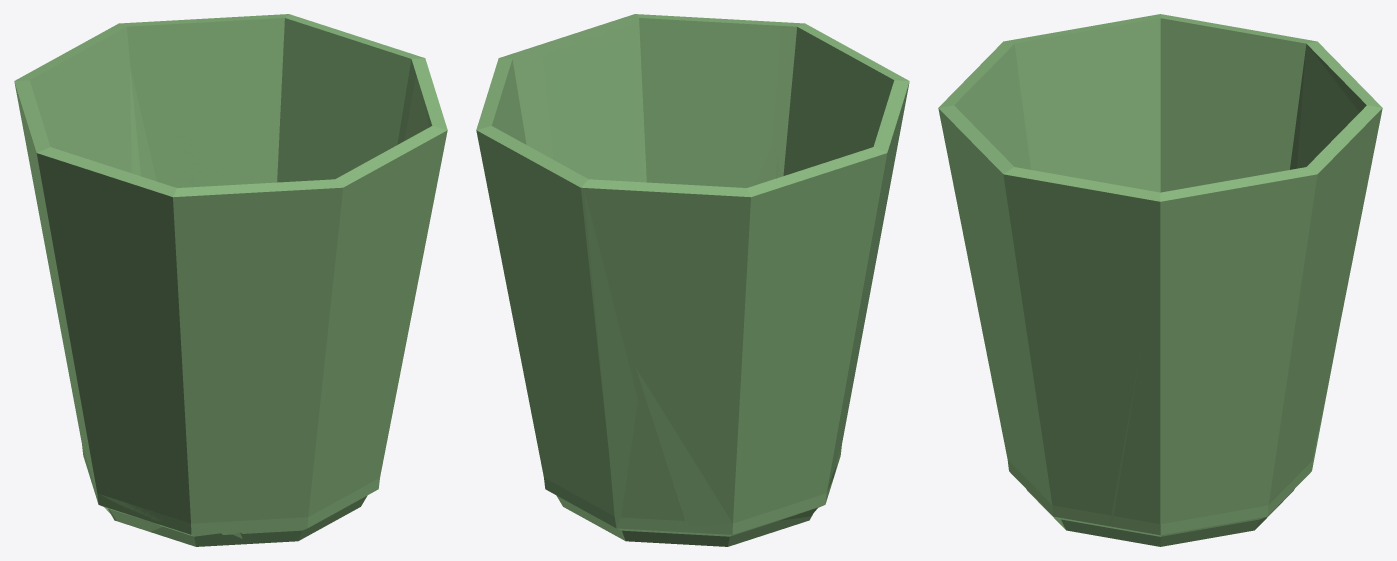
Rendered from Glas.glb.
3 renders of one model, left to right at view 1: azimuth 30°, elevation 25°; view 2: azimuth 150°, elevation 25°; view 3: azimuth 270°, elevation 25°, orthographic.
Visible parts, largest first — view 1: glas, glas_cell.005, glas_cell.006, glas_cell.001, glas_cell.007, glas_cell.002; view 2: glas, glas_cell.002, glas_cell.007, glas_cell.001, glas_cell.006, glas_cell.005; view 3: glas, glas_cell.001.
Boxes of the visible parts, x1=… form: glas: x1=14, y1=14, x2=447, y2=546; glas_cell.005: x1=58, y1=160, x2=312, y2=538; glas_cell.006: x1=132, y1=18, x2=413, y2=187; glas_cell.001: x1=30, y1=42, x2=127, y2=480; glas_cell.007: x1=130, y1=66, x2=156, y2=181; glas_cell.002: x1=404, y1=75, x2=429, y2=140; glas: x1=476, y1=14, x2=909, y2=546; glas_cell.002: x1=542, y1=18, x2=780, y2=187; glas_cell.007: x1=583, y1=188, x2=637, y2=527; glas_cell.001: x1=635, y1=367, x2=732, y2=527; glas_cell.006: x1=491, y1=51, x2=546, y2=155; glas_cell.005: x1=827, y1=104, x2=903, y2=491; glas: x1=938, y1=14, x2=1382, y2=546; glas_cell.001: x1=1242, y1=44, x2=1359, y2=178.
Bounding box in the file's own units: 0.1383 × 0.1323 × 0.1383.
